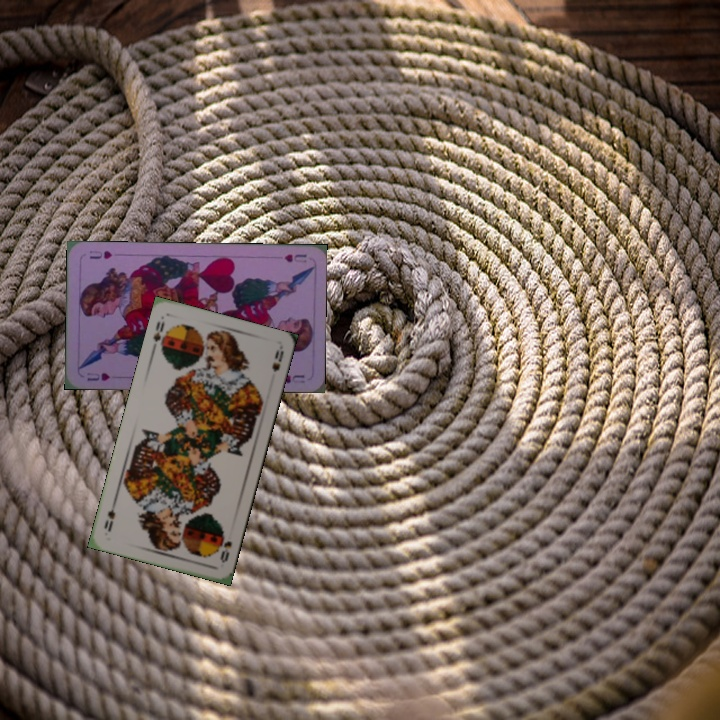HU: (280, 250, 309, 265), (83, 369, 113, 383)
SO: (148, 313, 169, 355), (216, 527, 234, 566)
